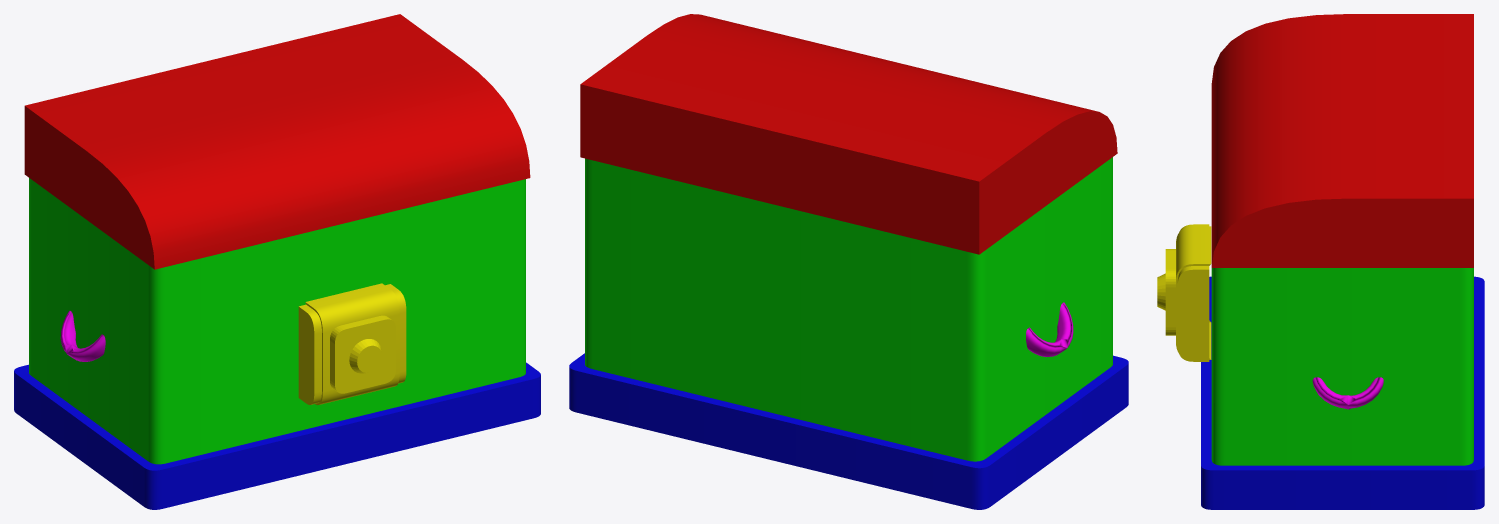
The model's file is boite2.FBX.
3 renders of one model, left to right at view 1: azimuth 30°, elevation 25°; view 2: azimuth 150°, elevation 25°; view 3: azimuth 270°, elevation 25°, orthographic. The views are drawn at different scales.
Parts seen in each view (by area): view 1: Box003; view 2: Box003; view 3: Box003.
Part boxes in pixels (x1,y1,x2,y2): Box003: (14, 14, 540, 509); Box003: (569, 14, 1128, 509); Box003: (1157, 14, 1484, 509).
Size of the model in its own units: 175 by 124 by 120.
